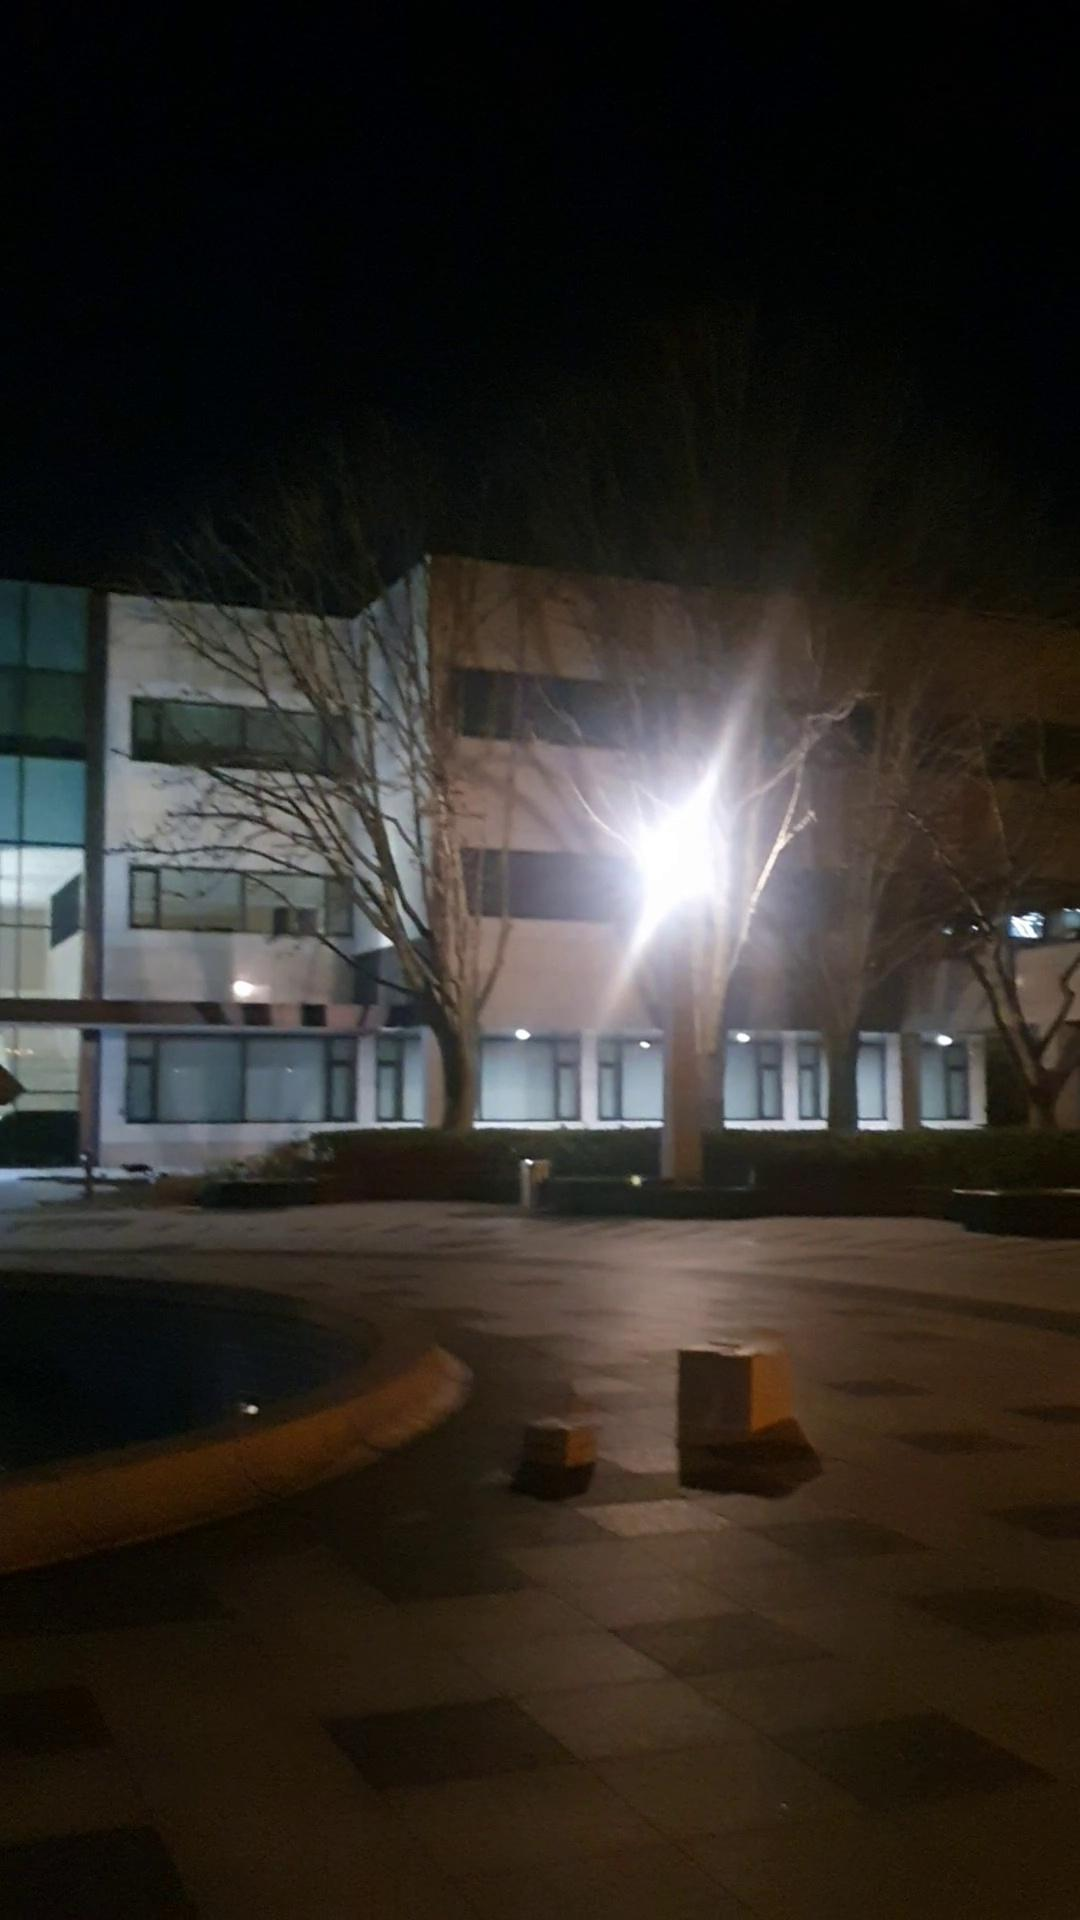Box: (671, 1328, 802, 1448), (513, 1415, 603, 1487)
